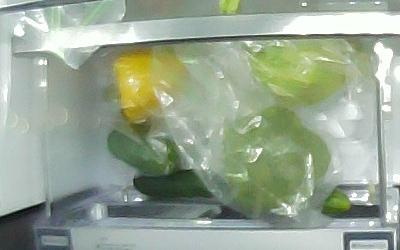broccoli_vinyl: (223, 106, 331, 220)
cucumber_vinyl: (131, 169, 351, 213)
lettuce_vinyl: (243, 38, 369, 105)
paprika_vinyl: (113, 49, 189, 122), (107, 127, 183, 176)
